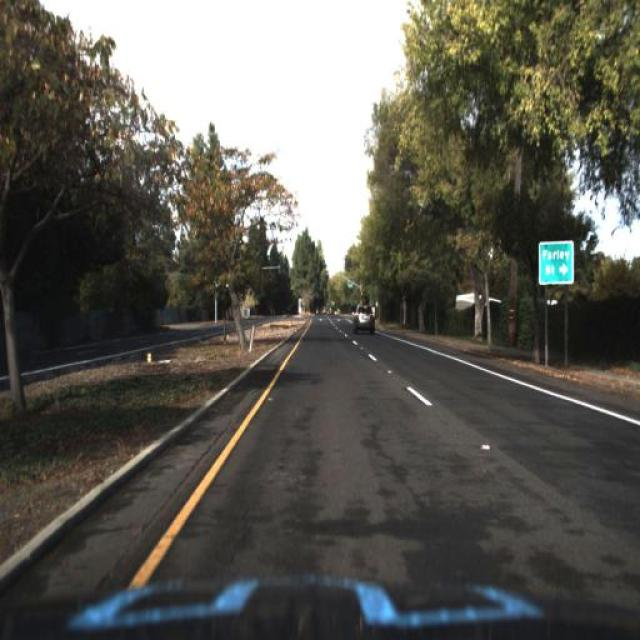car: (352, 299, 378, 337)
